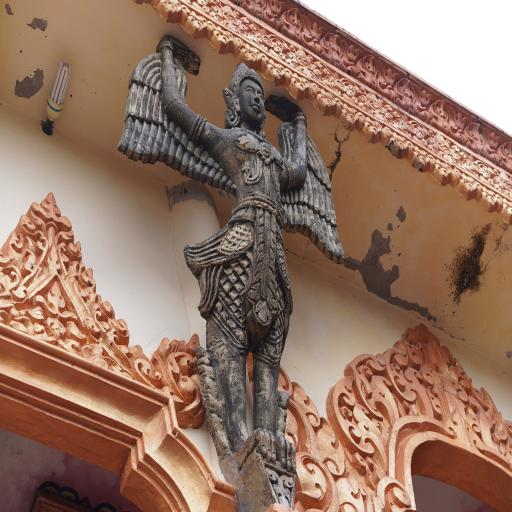la: (329, 371, 390, 473), (145, 331, 207, 425), (344, 344, 400, 432), (268, 29, 340, 97), (340, 74, 410, 138), (409, 116, 477, 176), (385, 337, 428, 424), (402, 317, 462, 375), (292, 447, 342, 512), (473, 380, 512, 463), (282, 0, 325, 56), (319, 27, 361, 78), (314, 417, 348, 478), (228, 3, 268, 54), (358, 47, 396, 99), (392, 73, 432, 122), (30, 187, 73, 232), (428, 94, 466, 144), (287, 380, 322, 434), (93, 294, 130, 340), (465, 115, 500, 160), (35, 283, 75, 322), (475, 158, 512, 200), (239, 0, 283, 32), (373, 474, 410, 512), (68, 259, 98, 301), (18, 210, 49, 250), (5, 233, 35, 270), (233, 34, 260, 73), (180, 4, 206, 44), (261, 54, 289, 90), (306, 81, 334, 117), (382, 126, 408, 162), (355, 110, 380, 146), (207, 20, 231, 57), (282, 66, 308, 99), (406, 136, 429, 173), (336, 97, 358, 133), (427, 152, 450, 186), (451, 356, 472, 392), (155, 0, 181, 28), (455, 384, 480, 412), (442, 408, 462, 442), (58, 236, 84, 260), (426, 385, 444, 419), (496, 135, 512, 172), (463, 404, 481, 436), (420, 364, 440, 389), (277, 362, 291, 394)
than: (113, 13, 349, 501)
